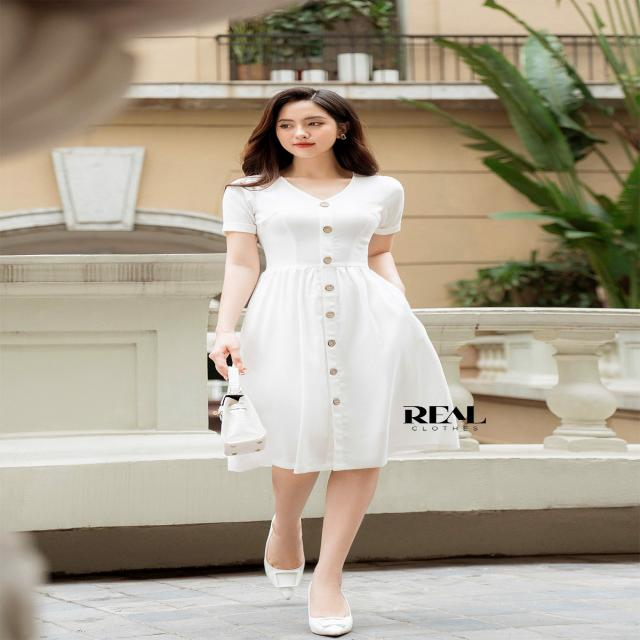clothes: (221, 172, 466, 473)
